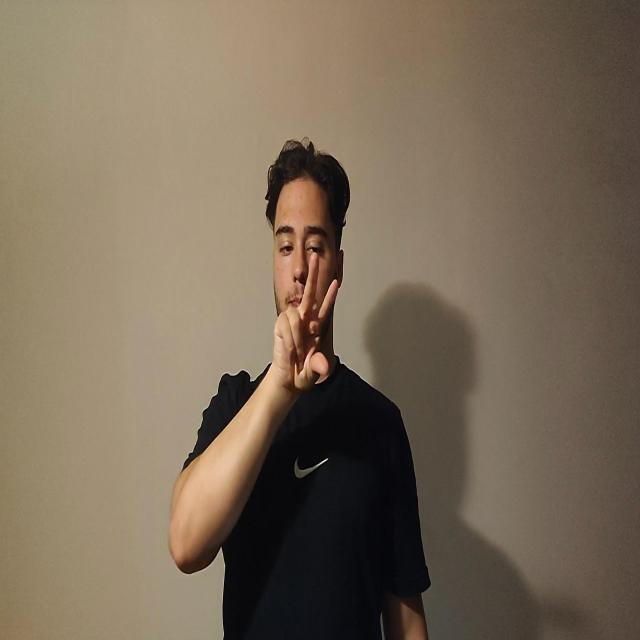no: (272, 251, 339, 395)
